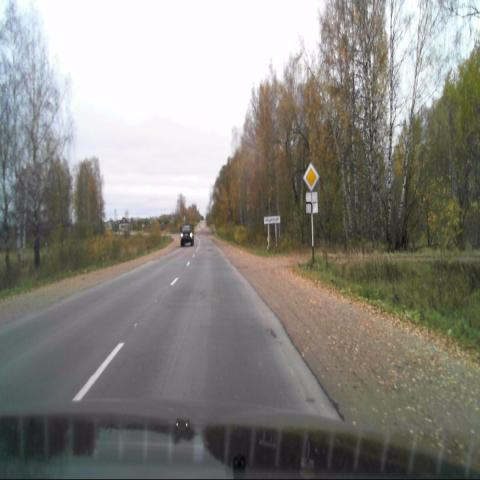8_13: (304, 191, 318, 214)
